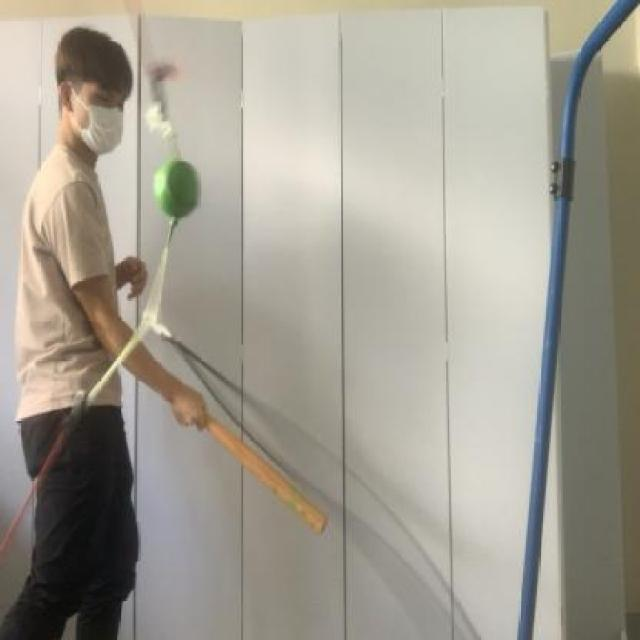baseball: (144, 150, 205, 225)
